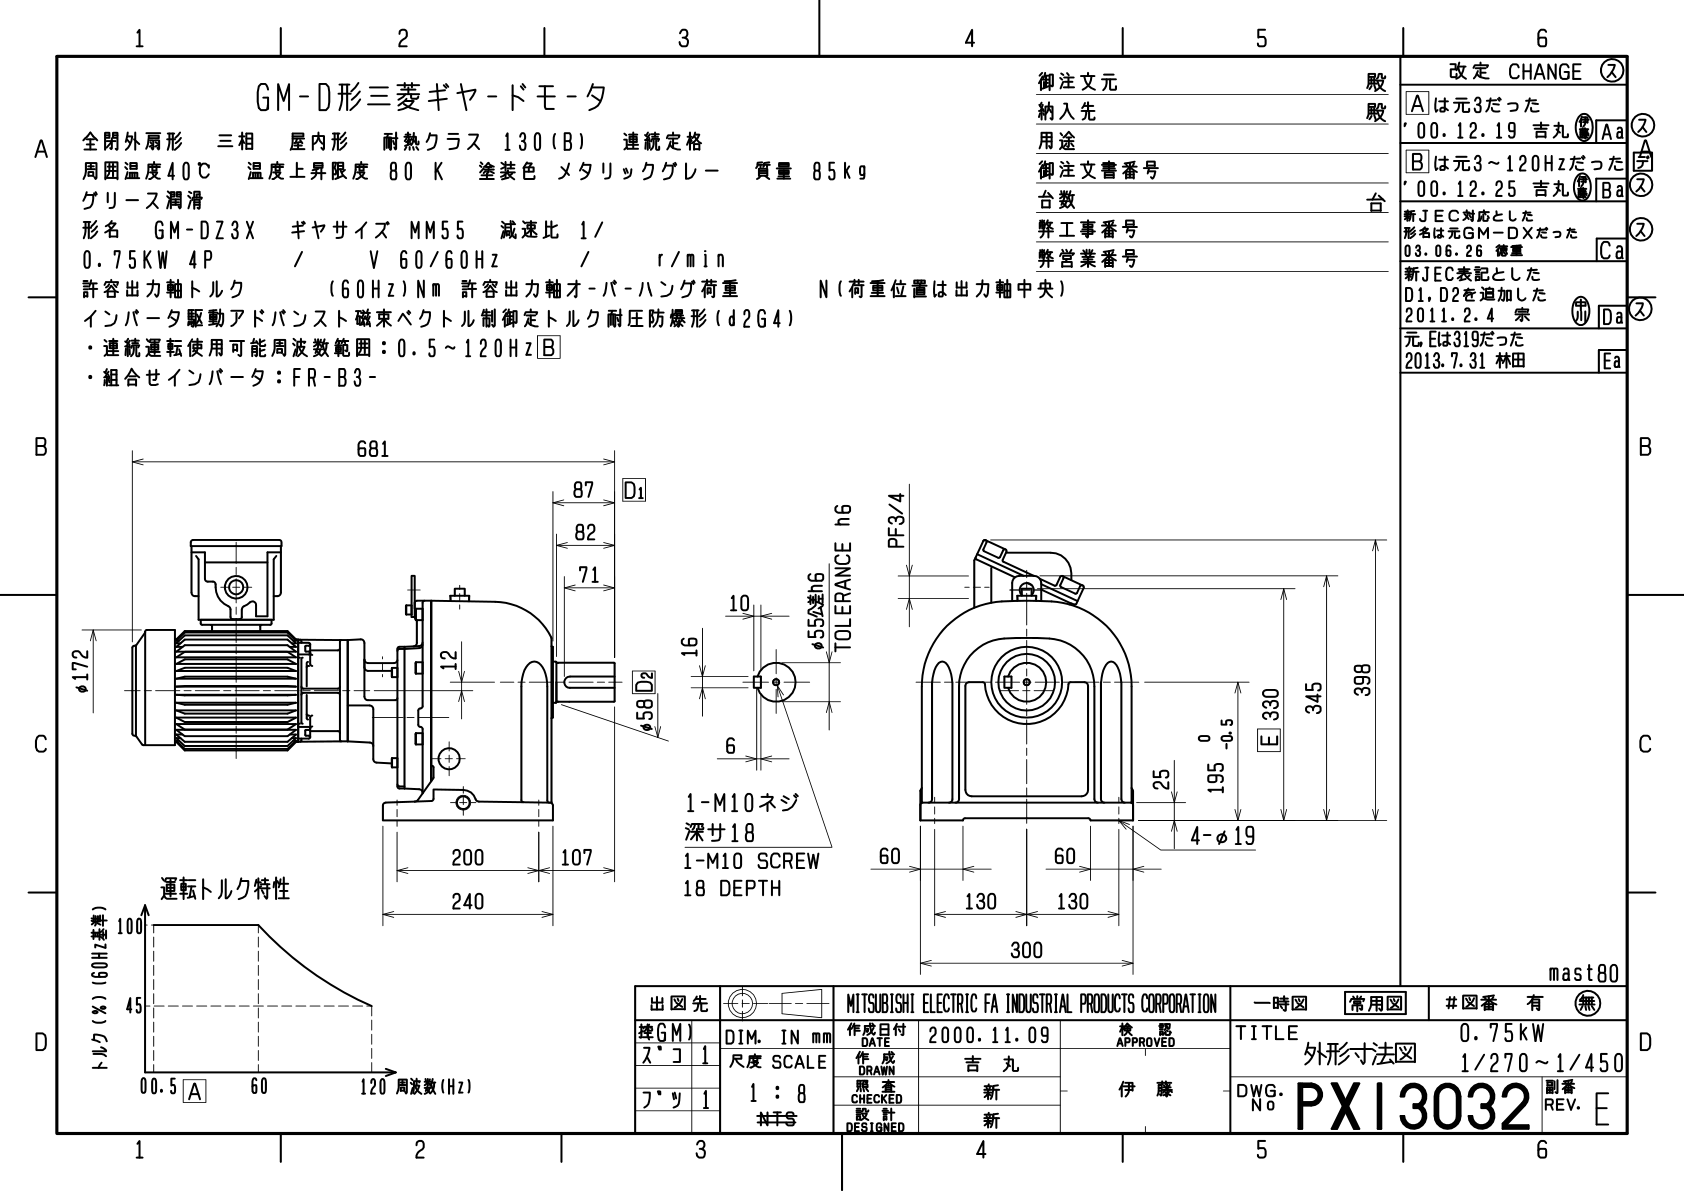GM_D_制御屋内_三相_脚: (61, 418, 1407, 983)
